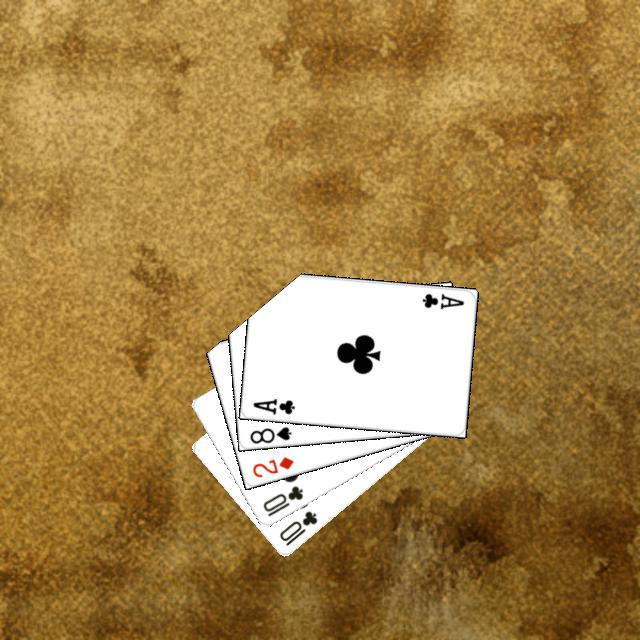10c: (274, 506, 319, 547), (258, 481, 305, 518)
2d: (247, 451, 296, 479)
8s: (245, 422, 293, 445)
Ac: (417, 289, 466, 311), (248, 394, 296, 416)
